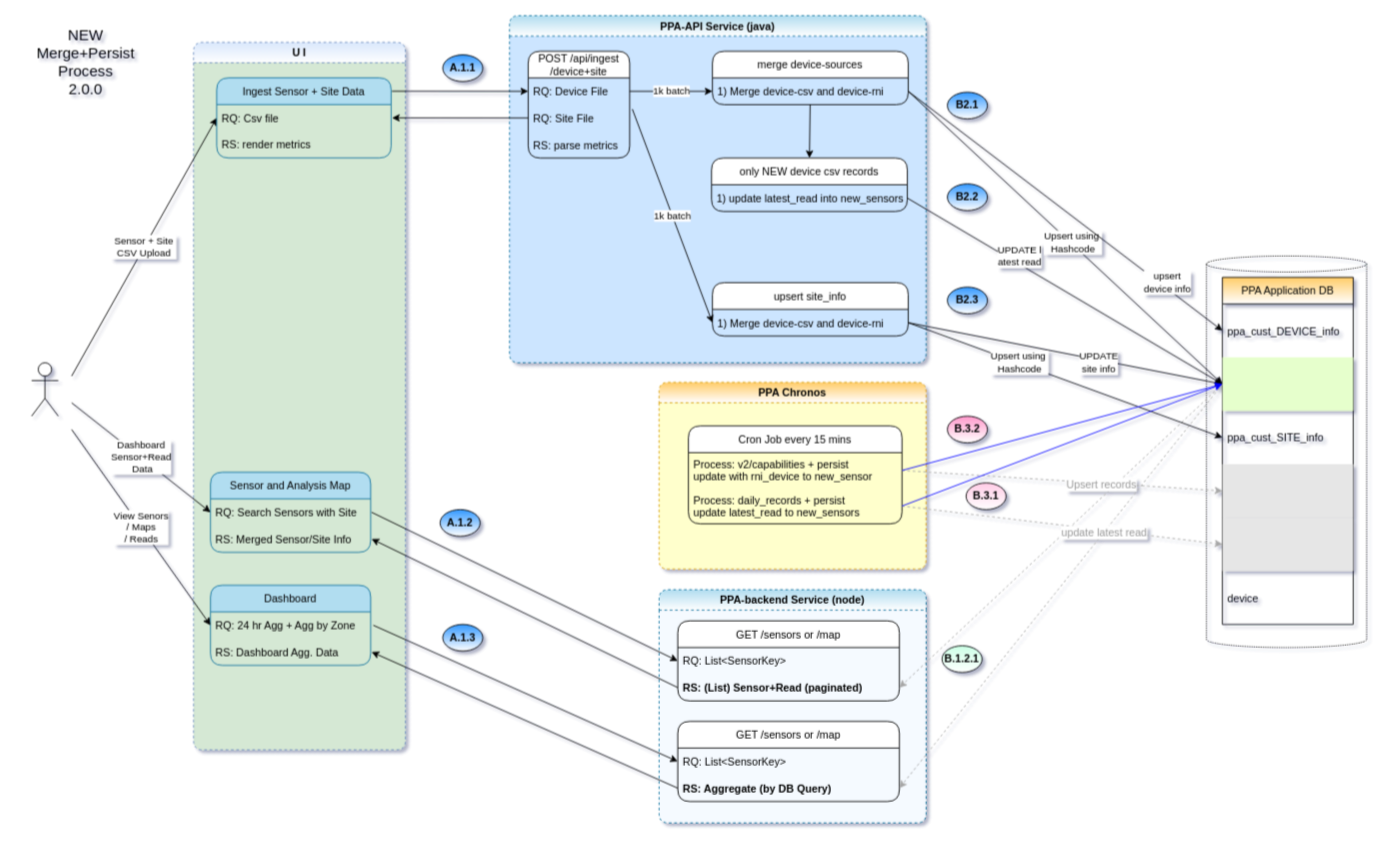
Some shapes in this 1388 by 844 pixel diagram are drawn without their labels. Each missing label, with the centre of its shape:
"new_sensor_aggregate" belongs at (x=1287, y=383).
"PPA User" belongs at (x=44, y=389).
"ppa_latest_press_read" belongs at (x=1287, y=543).
"ppa_RNI_device_info" belongs at (x=1287, y=490).
